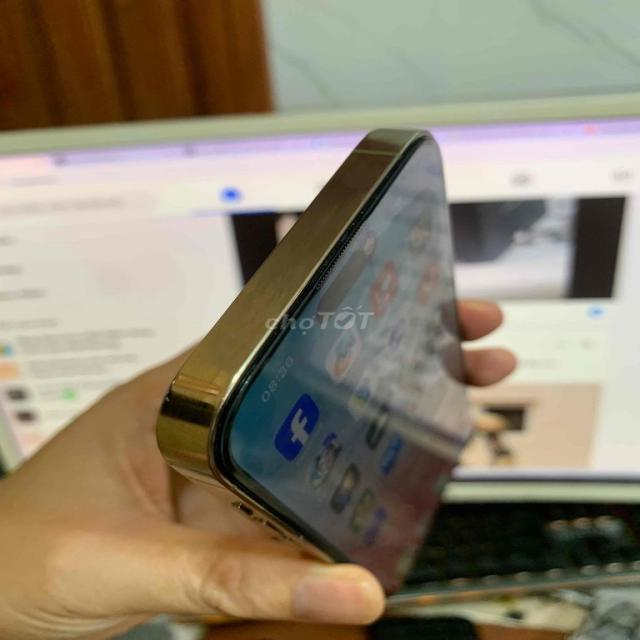gen_14: (132, 118, 500, 591)
